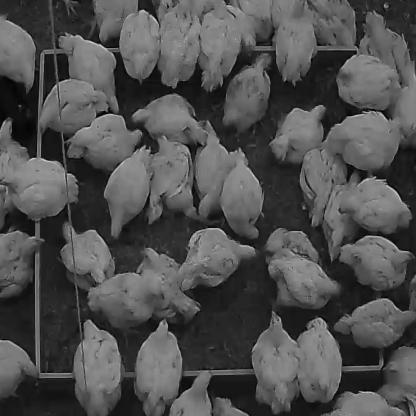chicken: (0, 157, 80, 221), (58, 31, 120, 113), (175, 228, 257, 288), (73, 318, 123, 415), (252, 310, 298, 412), (134, 318, 182, 415), (86, 272, 166, 330), (325, 112, 401, 171), (103, 144, 150, 239), (65, 113, 143, 170), (334, 296, 416, 348), (320, 168, 366, 260), (337, 176, 411, 233), (141, 247, 200, 318), (340, 234, 414, 290), (146, 135, 194, 221), (132, 92, 209, 145), (223, 52, 271, 134), (296, 317, 342, 402), (60, 221, 116, 290), (38, 78, 106, 134), (266, 258, 340, 309), (195, 137, 239, 222), (198, 1, 240, 90), (334, 53, 398, 110), (300, 147, 346, 226), (156, 7, 199, 91), (220, 159, 263, 238), (276, 2, 316, 84), (272, 105, 325, 165), (0, 229, 45, 297), (120, 8, 160, 82), (0, 13, 36, 94), (263, 225, 325, 266), (0, 339, 38, 398), (320, 389, 406, 415), (311, 0, 356, 45), (168, 371, 212, 415), (0, 116, 31, 178), (362, 10, 395, 68), (94, 0, 137, 42), (378, 345, 415, 388), (236, 0, 273, 42), (393, 86, 415, 148), (374, 383, 416, 415), (392, 32, 415, 86), (267, 0, 308, 28), (154, 0, 224, 13), (211, 395, 248, 415), (406, 273, 416, 312)
